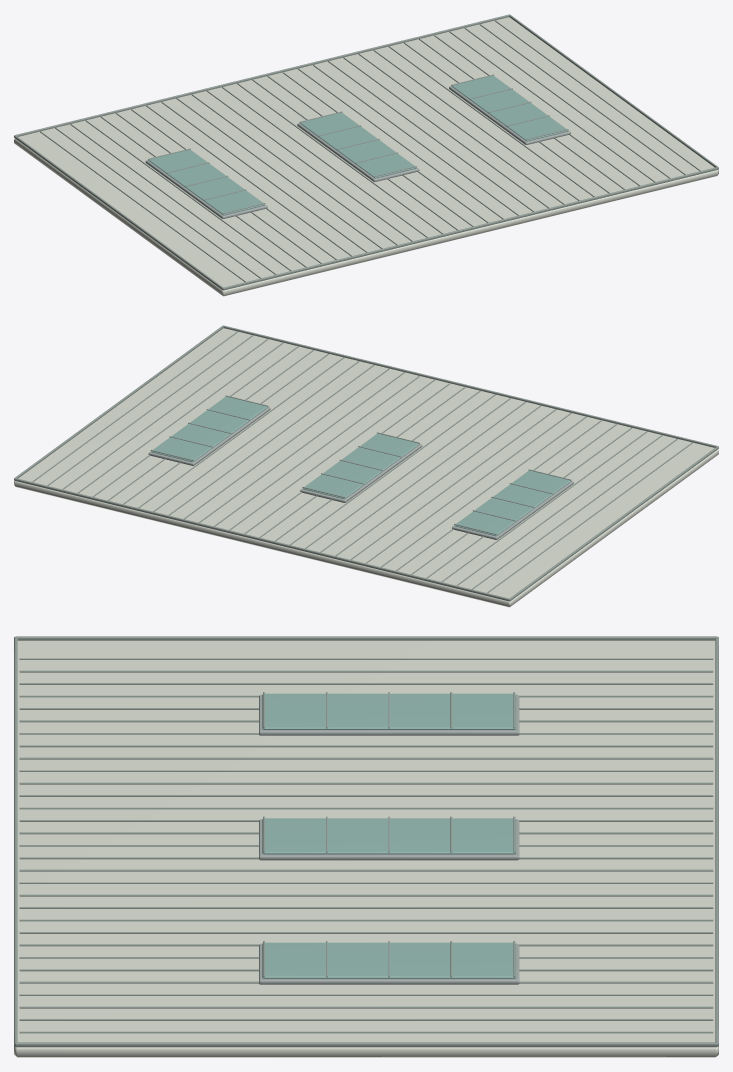
File: acabado-nave.glb
3 views of the same model, one above another, from view 1: azimuth 30°, elevation 25°; view 2: azimuth 150°, elevation 25°; view 3: azimuth 270°, elevation 25° (orthographic). The views are drawn at different scales.
Parts seen in each view (by area): view 1: Chapa marfil, Juntas de zinc, Policarbonato, Aluminio satinado; view 2: Chapa marfil, Juntas de zinc, Policarbonato, Aluminio satinado; view 3: Chapa marfil, Juntas de zinc, Policarbonato, Aluminio satinado.
Boxes of the visible parts, x1,y1,x2,y2 form: Chapa marfil: [14, 17, 718, 296]; Juntas de zinc: [14, 14, 718, 290]; Policarbonato: [148, 75, 568, 215]; Aluminio satinado: [145, 77, 570, 218]; Chapa marfil: [14, 328, 718, 607]; Juntas de zinc: [14, 325, 718, 601]; Policarbonato: [151, 396, 570, 535]; Aluminio satinado: [148, 396, 573, 539]; Chapa marfil: [14, 640, 718, 1057]; Juntas de zinc: [14, 636, 718, 1047]; Policarbonato: [262, 693, 515, 978]; Aluminio satinado: [259, 694, 519, 984].
Size of the model in its own units: 34.1 by 0.7775 by 24.9.
